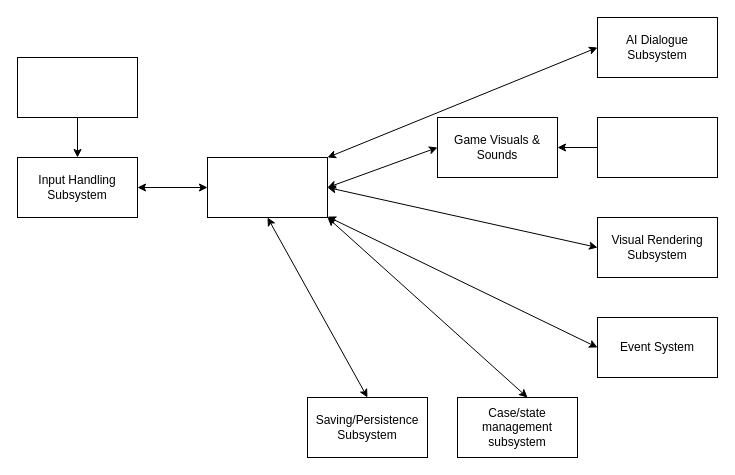
Image size: 735x475. Some labels were removed from this diagram. Here are the shapes that lost their labels. From the top down, the box of each, then its label:
(16, 56, 138, 118): Player Commands
(596, 116, 718, 178): Audio Subsystem
(206, 156, 328, 218): Game Logic System
